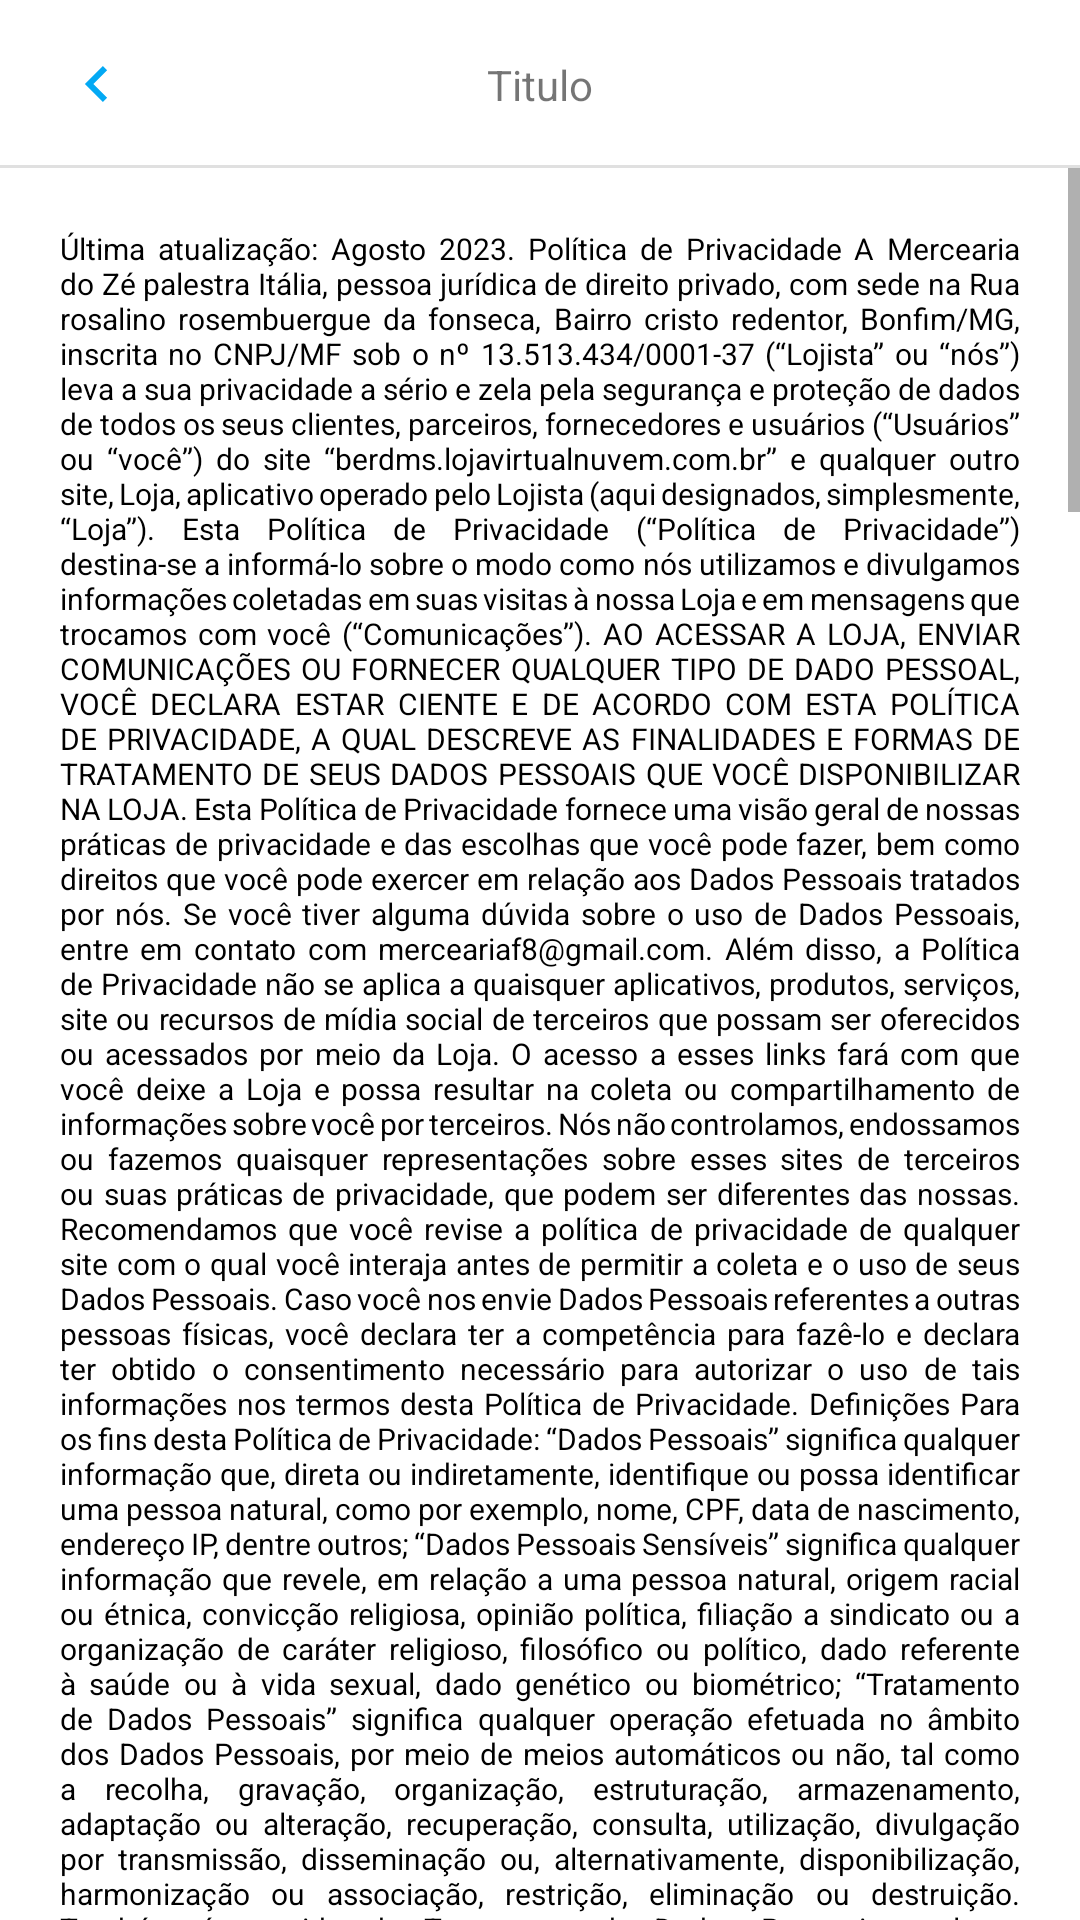

Screen size 1080w x 1920h. Icon name, then its center in pixels as (x=x, y=y):
voltar: (x=96, y=84)
